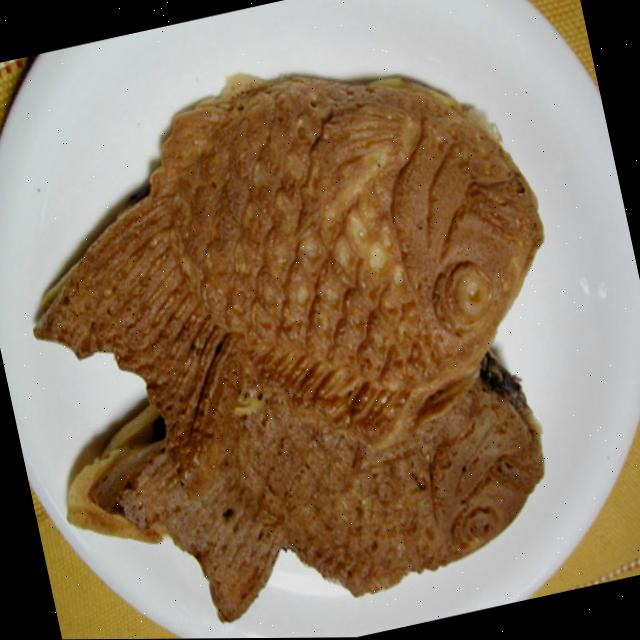熟制海鲜: (0, 10, 609, 640)
